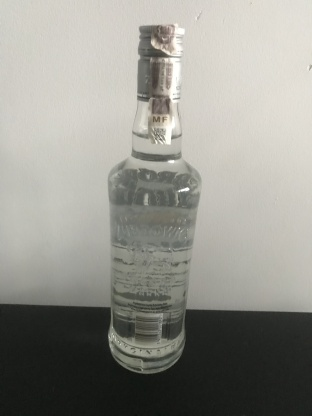nakretka: (135, 22, 186, 102)
